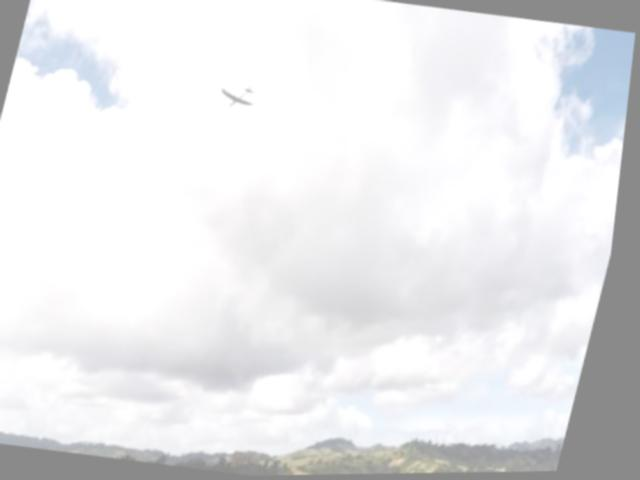uav: (216, 77, 263, 115)
